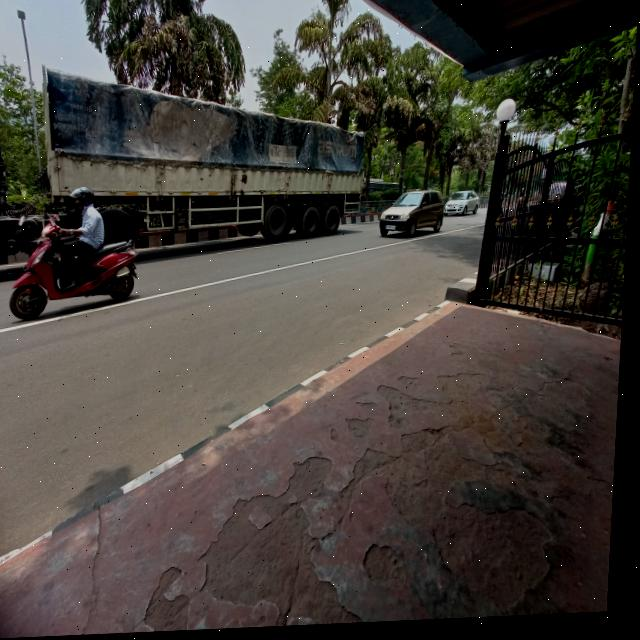bike: (6, 214, 141, 315)
car: (377, 187, 458, 255), (450, 191, 484, 236)
